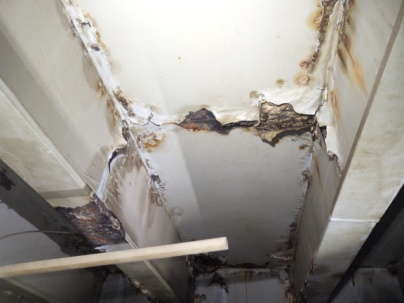corrosion: (233, 94, 314, 156), (44, 192, 129, 247), (335, 2, 375, 96), (95, 125, 141, 187), (167, 99, 229, 141), (60, 9, 109, 62), (306, 116, 345, 179), (82, 81, 138, 123), (302, 0, 334, 73), (122, 106, 167, 153), (187, 251, 234, 294), (144, 172, 174, 211), (279, 228, 304, 268)
